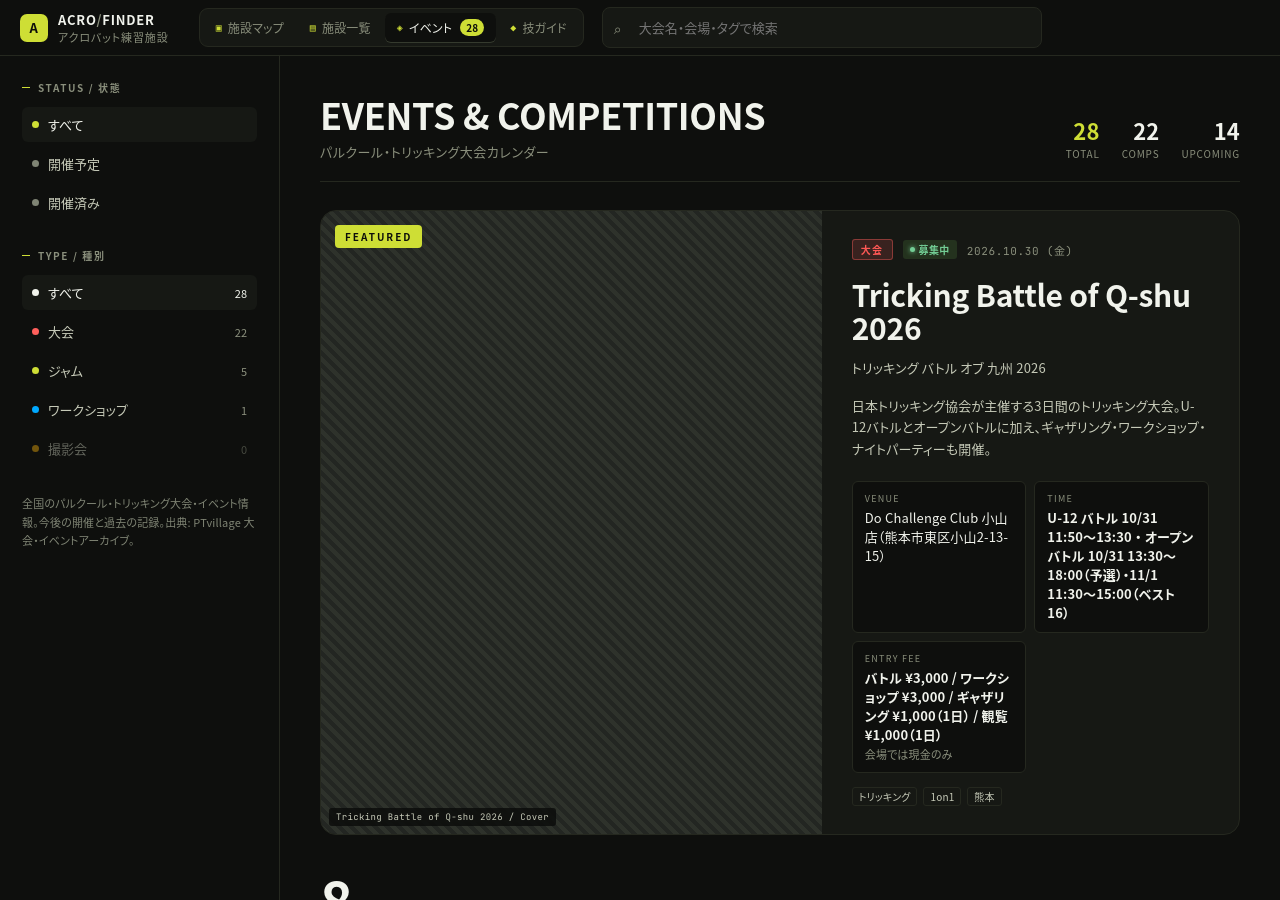
Test: EventsFeed › shows only past events, most recent first, under 開催済み
Click the button with class "filter-row" showing "開催済み".
click(140, 202)  # box [22,185,257,220]
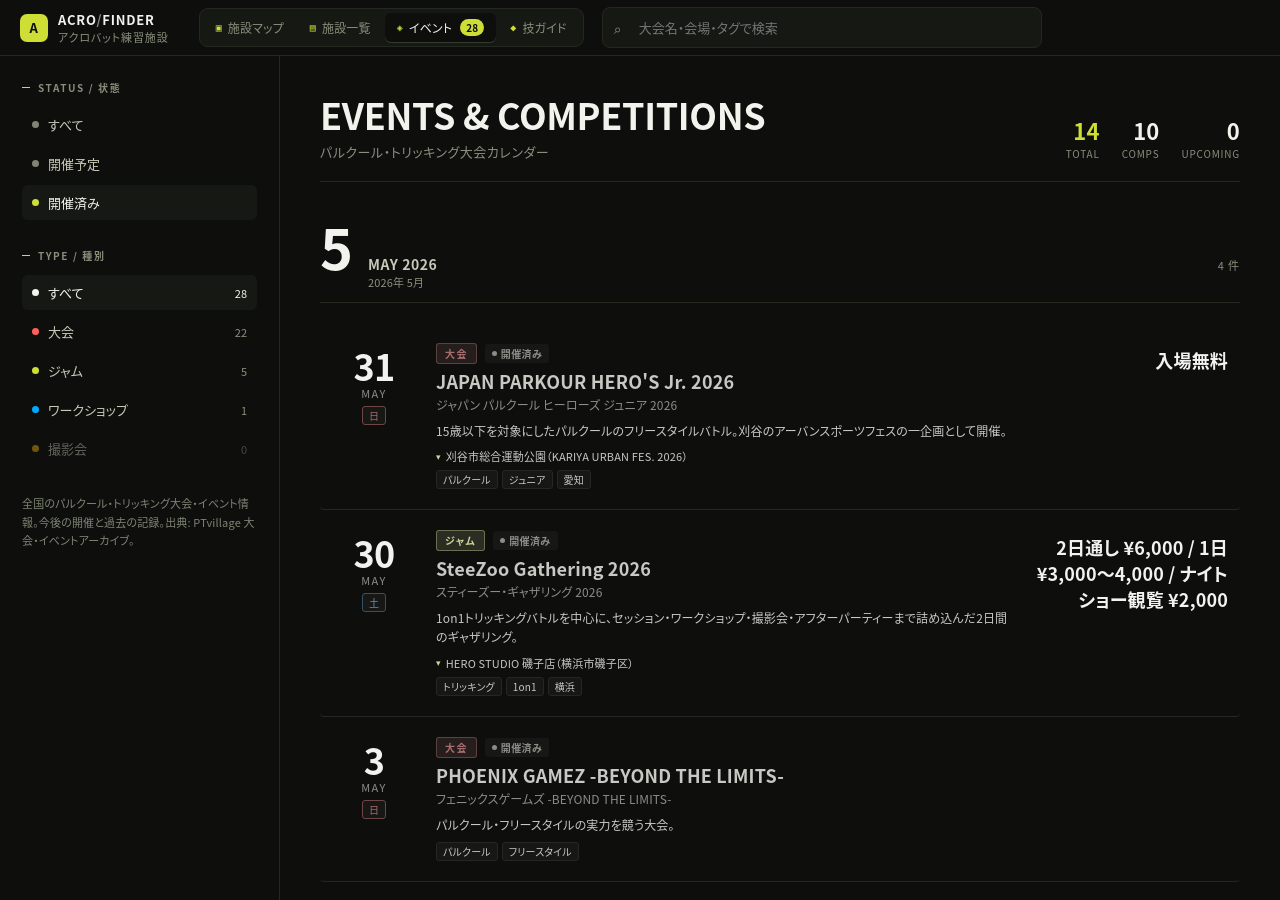
Expected: the 1st element with class "event-card" is shown, [320,323,1240,510]
